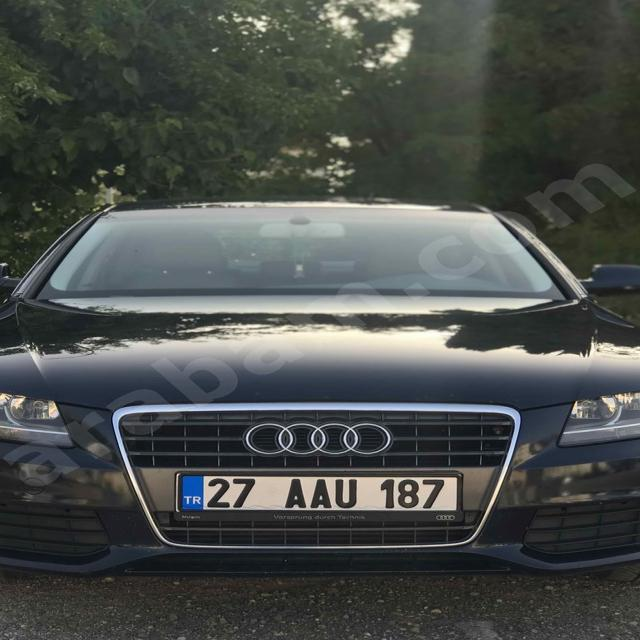license_plate: (178, 474, 461, 512)
